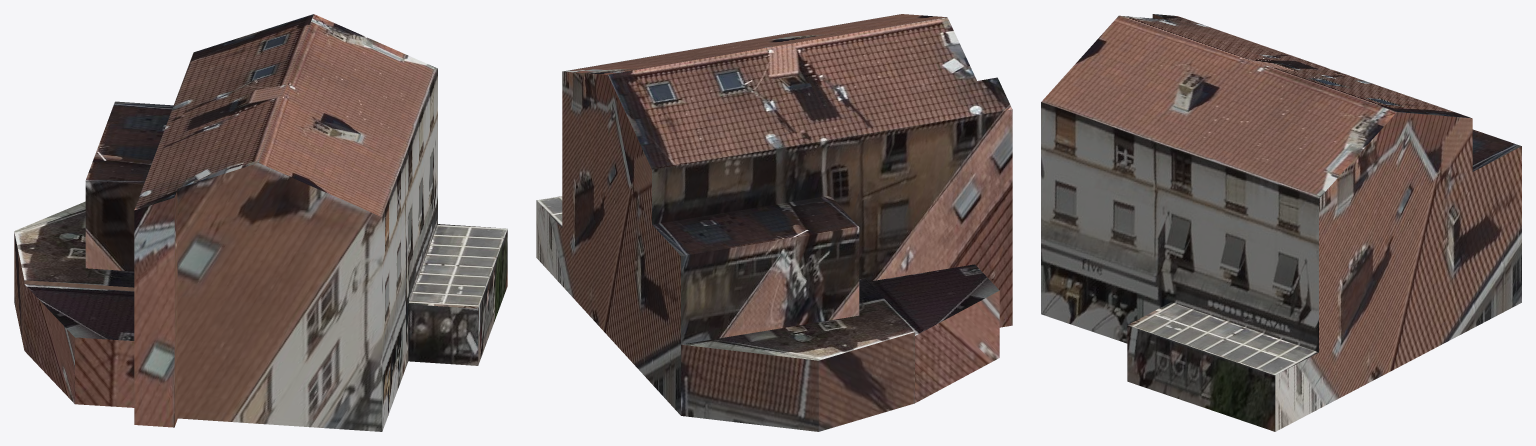
The picture shows the model from 3 angles, left to right: view 1: azimuth 30°, elevation 25°; view 2: azimuth 150°, elevation 25°; view 3: azimuth 270°, elevation 25°; orthographic projection. The views are drawn at different scales.
Visible parts, largest first — view 1: Z_UP; view 2: Z_UP; view 3: Z_UP.
Part boxes in pixels (box(x1,y1,x2,y2)): Z_UP: box(14, 14, 507, 431); Z_UP: box(536, 14, 1012, 431); Z_UP: box(1041, 14, 1521, 431).
Bounding box in the file's own units: 23.03 × 12.87 × 21.75.
2 materials, 1 textured.
